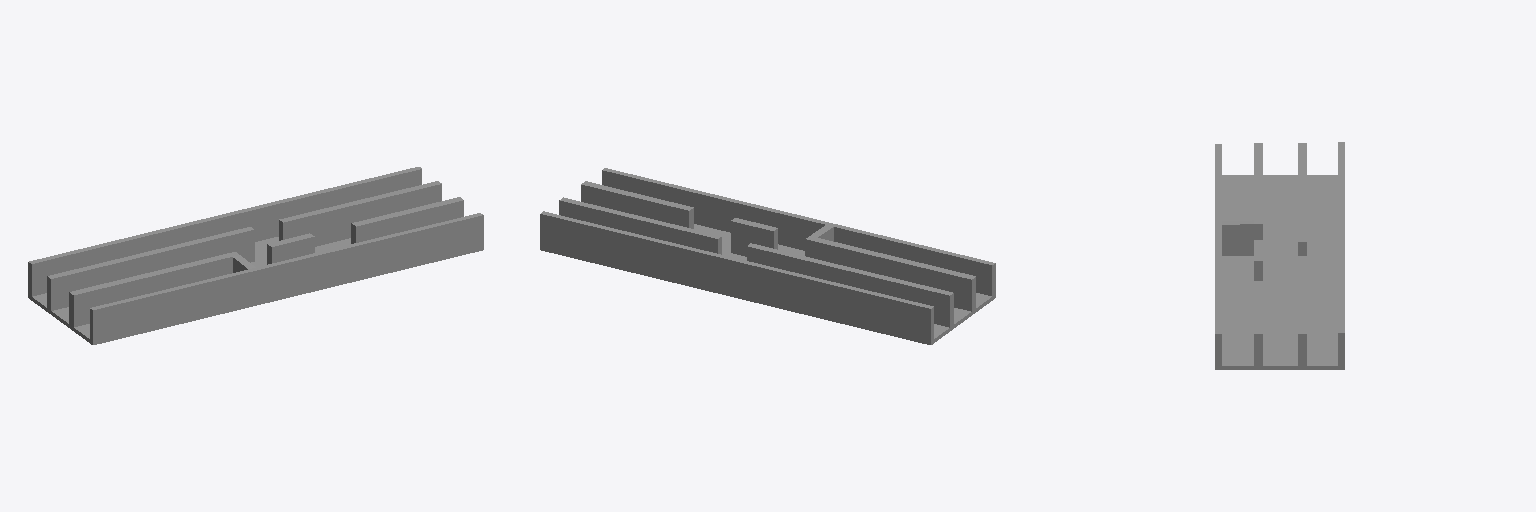
The model's file is maze.obj.
3 views of the same model, side by side, from view 1: azimuth 30°, elevation 25°; view 2: azimuth 150°, elevation 25°; view 3: azimuth 270°, elevation 25° (orthographic).
Parts seen in each view (by area): view 1: Cube; view 2: Cube; view 3: Cube.
Part boxes in pixels (x1,y1,x2,y2): Cube: (28, 167, 483, 344); Cube: (540, 168, 995, 344); Cube: (1215, 142, 1344, 369).
Size of the model in its own units: 54.27 by 4.85 by 15.56.